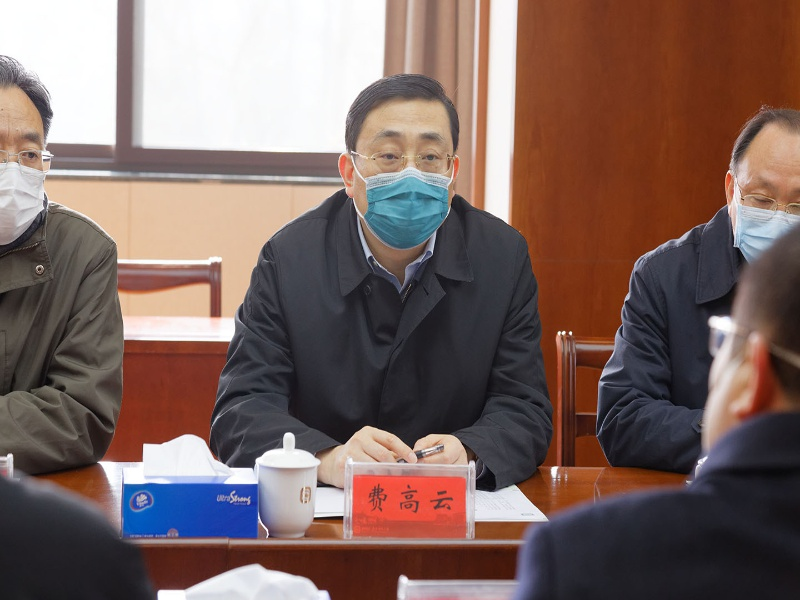ManaoArotava: (337, 61, 474, 268), (717, 93, 800, 276)
